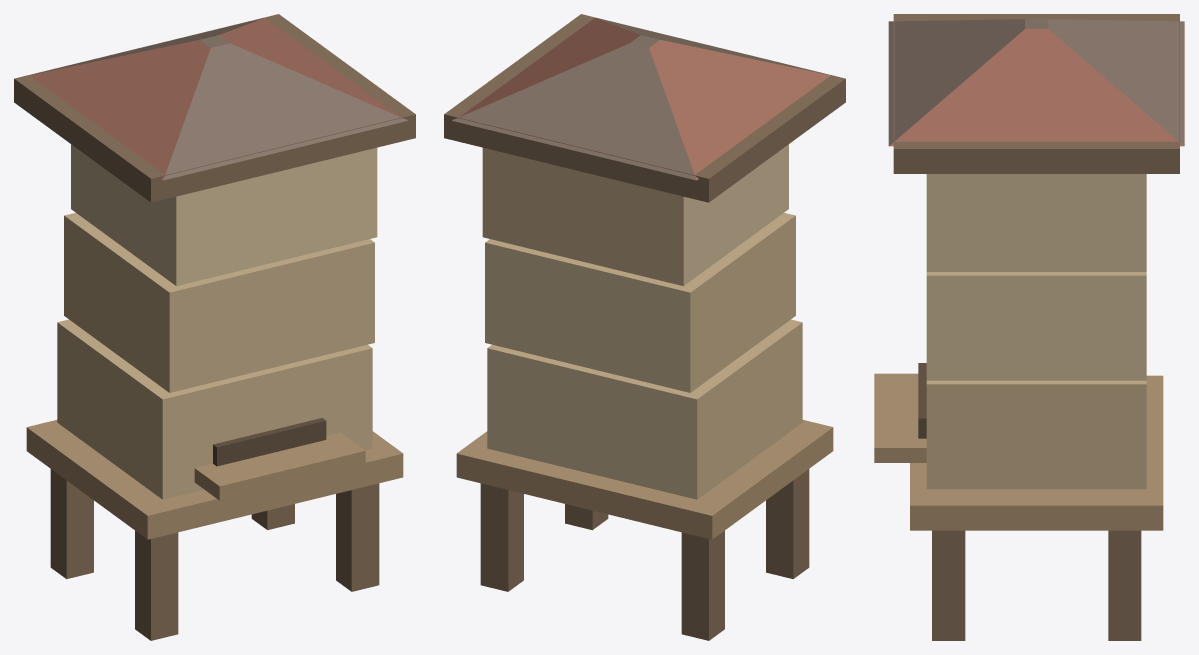
Rendered from beehive.glb.
3 views of the same model, side by side, from view 1: azimuth 30°, elevation 25°; view 2: azimuth 150°, elevation 25°; view 3: azimuth 270°, elevation 25° (orthographic). The views are drawn at different scales.
Parts seen in each view (by area): view 1: beehive; view 2: beehive; view 3: beehive.
Boxes of the visible parts, x1=… form: beehive: x1=14, y1=14, x2=415, y2=640; beehive: x1=444, y1=14, x2=845, y2=640; beehive: x1=874, y1=14, x2=1184, y2=640.
Bounding box in the file's own units: 0.58 × 1.12 × 0.5637.
